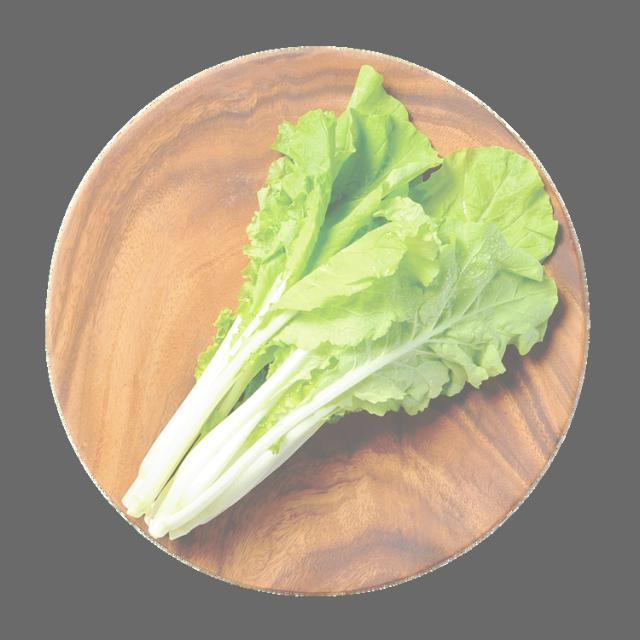chinese_cabbage: (105, 86, 532, 540)
